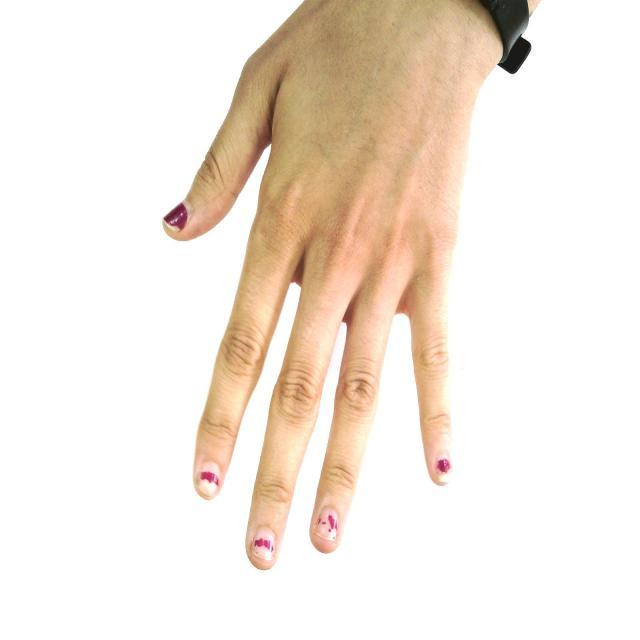Fingernail: (315, 508, 339, 541), (198, 464, 219, 499), (253, 528, 275, 560), (165, 205, 187, 229), (438, 458, 450, 479)
